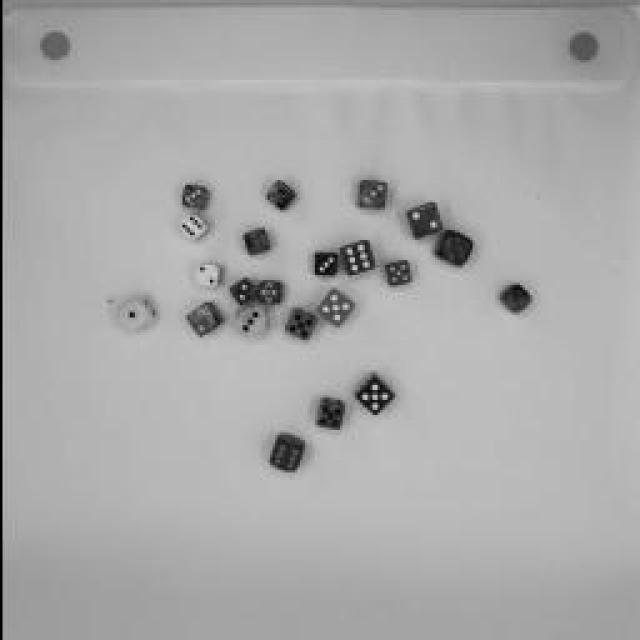dice_1: (111, 290, 164, 332)
dice_2: (175, 299, 223, 339), (399, 198, 441, 242), (219, 272, 259, 308), (191, 259, 224, 289)
dice_3: (348, 175, 392, 217), (174, 179, 224, 211), (226, 305, 269, 340), (500, 279, 540, 316), (298, 246, 338, 282)
dice_4: (229, 228, 276, 262)
dice_5: (348, 362, 410, 420), (310, 284, 368, 326), (278, 304, 318, 346), (435, 228, 477, 268), (379, 254, 416, 291), (313, 390, 345, 432), (258, 179, 300, 209)
dice_6: (264, 431, 308, 479), (341, 235, 374, 280), (170, 214, 215, 244), (251, 275, 281, 307)
